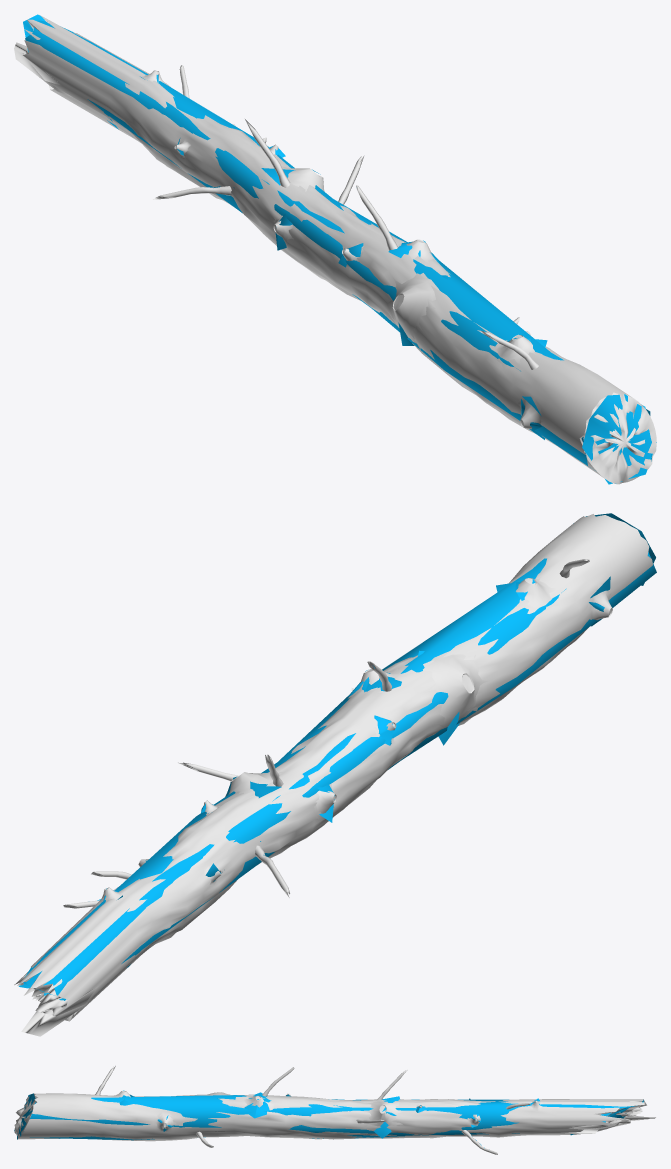
The model's file is Deadtree01.fbx.
The picture shows the model from 3 angles, top to bottom: view 1: azimuth 30°, elevation 25°; view 2: azimuth 150°, elevation 25°; view 3: azimuth 270°, elevation 25°; orthographic projection. The views are drawn at different scales.
Visible parts, largest first — view 1: DeadTree01_LOD0, UTM_DeadTree01; view 2: DeadTree01_LOD0, UTM_DeadTree01; view 3: DeadTree01_LOD0, UTM_DeadTree01.
Part boxes in pixels (left/top/right/bottom): DeadTree01_LOD0: left=14, top=15, right=656, bottom=484; UTM_DeadTree01: left=23, top=14, right=656, bottom=484; DeadTree01_LOD0: left=14, top=514, right=652, bottom=1036; UTM_DeadTree01: left=19, top=513, right=656, bottom=1000; DeadTree01_LOD0: left=14, top=1066, right=656, bottom=1154; UTM_DeadTree01: left=14, top=1090, right=643, bottom=1147.
Size of what is drawn, in the model's own units: 89.95 by 66.26 by 564.
